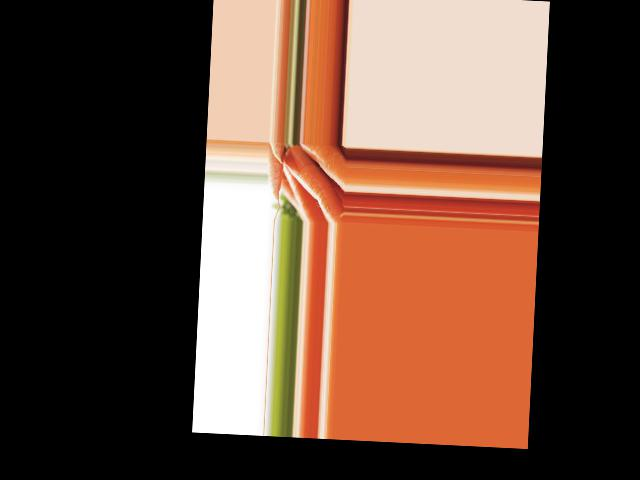carrot: (276, 160, 321, 214)
